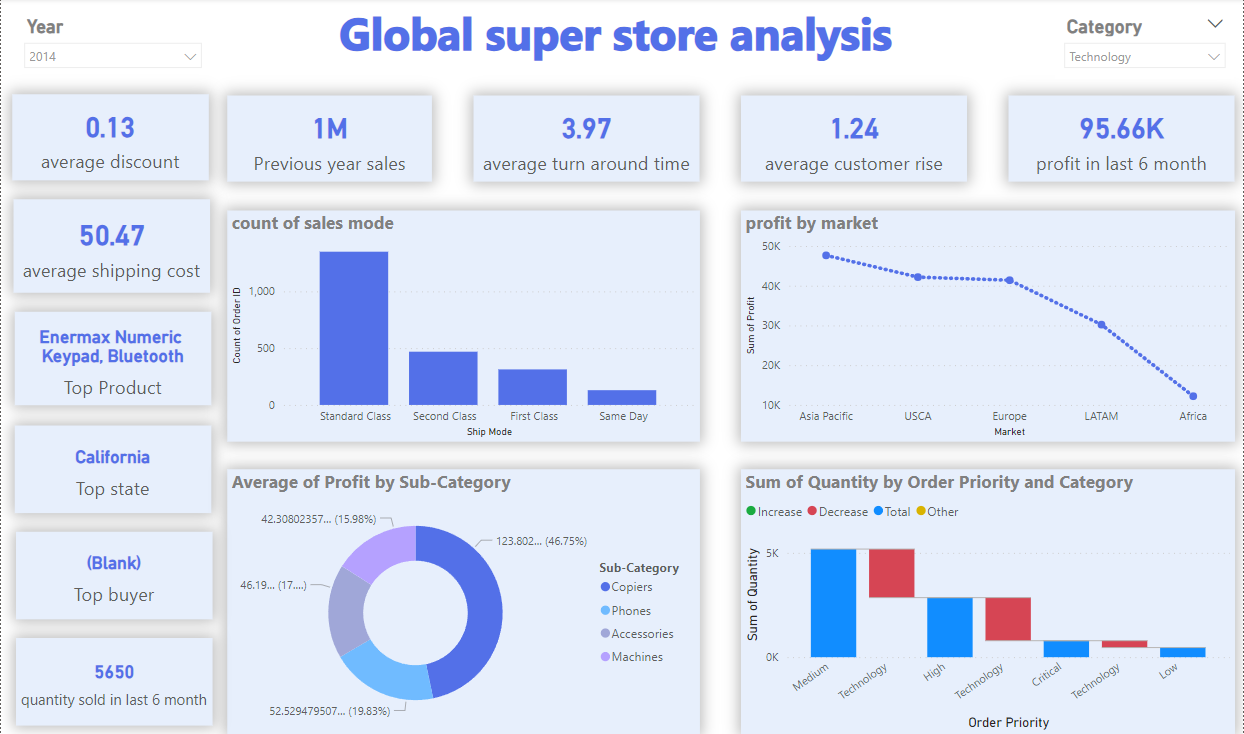

The dashboard page shown, as its layout file describes it:
{"tool":"powerbi","page":{"name":"ADVANCED","canvas":[1350,800],"ordinal":1},"visuals":[{"type":"card","fields":{"Values":["Orders.Previous year sales"]},"box":[245.8,105.9,222.8,93.7],"z":0,"group":"g1"},{"type":"slicer","fields":{"Values":["Orders.Order Date.Variation.Date Hierarchy.Year"]},"box":[14.9,13.6,213.2,74.7],"z":0},{"type":"card","fields":{"Values":["Orders.average turn around time"]},"box":[513.4,105.9,245.8,93.7],"z":1000,"group":"g1"},{"type":"textbox","box":[363.3,0,623.4,77.4],"z":1000},{"type":"card","fields":{"Values":["Orders.average customer rise"]},"box":[804,105.9,245.8,93.7],"z":2000,"group":"g1"},{"type":"card","fields":{"Values":["Orders.average discount"]},"box":[12.2,104.6,213.2,93.7],"z":2000},{"type":"card","fields":{"Values":["Orders.profit in last 6 month"]},"box":[1094.7,105.9,245.8,93.7],"z":3000,"group":"g1"},{"type":"group","id":"g1","title":"Group 1","box":[245.8,105.9,1094.7,93.7],"z":3000},{"type":"lineClusteredColumnComboChart","title":"count of sales mode","fields":{"Category":["Orders.Ship Mode"],"Y":["Count(Orders.Order ID)"]},"box":[245.8,230.9,513.4,251.3],"z":4000},{"type":"lineChart","title":"profit by market","fields":{"Category":["Orders.Market"],"Y":["Sum(Orders.Profit)"]},"box":[804.1,230.9,536.5,251.3],"z":5000},{"type":"slicer","fields":{"Values":["Orders.Category"]},"box":[1145,13.6,195.6,74.7],"z":6000},{"type":"card","fields":{"Values":["Orders.average shipping cost"]},"box":[13.6,218.9,213.2,101.9],"z":7000},{"type":"card","fields":{"Values":["Orders.Top Product"]},"box":[14.9,341.5,213.2,101.9],"z":8000},{"type":"card","fields":{"Values":["Orders.Top customer"]},"box":[14.9,464,213.2,95.1],"z":9000},{"type":"donutChart","fields":{"Category":["Orders.Sub-Category"],"Y":["Avg(Orders.Profit)"]},"box":[245.8,512.1,513.4,278.4],"z":10000},{"type":"card","fields":{"Values":["Orders.Top buyer"]},"box":[16.3,579.7,213.2,95.1],"z":11000},{"type":"waterfallChart","fields":{"Category":["Orders.Order Priority"],"Breakdown":["Orders.Category"],"Y":["Sum(Orders.Sales)"]},"box":[804.1,512.1,536.5,278.4],"z":12000},{"type":"card","fields":{"Values":["Orders.q sold in last 6 month"]},"box":[16.3,695.4,213.2,95.1],"z":13000}]}

Visuals, with their boxes in screenshot pixels (x1, y1, x2, y2), scaled from the page's 1350x800 canvas onto the 1244x734 screenshot:
card - Orders.Previous year sales: left=227, top=97, right=432, bottom=183
slicer - Orders.Order Date.Variation.Date Hierarchy.Year: left=14, top=12, right=210, bottom=81
card - Orders.average turn around time: left=473, top=97, right=700, bottom=183
textbox: left=335, top=0, right=909, bottom=71
card - Orders.average customer rise: left=741, top=97, right=967, bottom=183
card - Orders.average discount: left=11, top=96, right=208, bottom=182
card - Orders.profit in last 6 month: left=1009, top=97, right=1235, bottom=183
"Group 1" group: left=227, top=97, right=1235, bottom=183
"count of sales mode" lineClusteredColumnComboChart: left=227, top=212, right=700, bottom=442
"profit by market" lineChart: left=741, top=212, right=1235, bottom=442
slicer - Orders.Category: left=1055, top=12, right=1235, bottom=81
card - Orders.average shipping cost: left=13, top=201, right=209, bottom=294
card - Orders.Top Product: left=14, top=313, right=210, bottom=407
card - Orders.Top customer: left=14, top=426, right=210, bottom=513
donutChart - Orders.Sub-Category x Avg(Orders.Profit): left=227, top=470, right=700, bottom=725
card - Orders.Top buyer: left=15, top=532, right=211, bottom=619
waterfallChart - Orders.Order Priority x Orders.Category: left=741, top=470, right=1235, bottom=725
card - Orders.q sold in last 6 month: left=15, top=638, right=211, bottom=725
